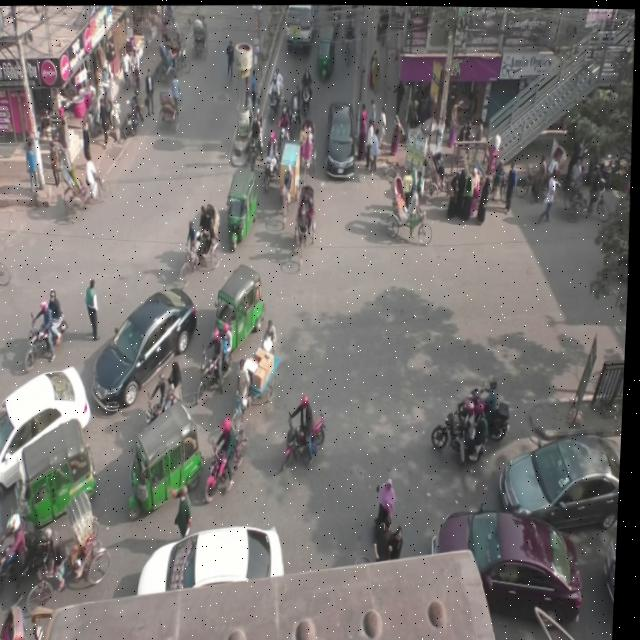cng: (16, 402, 99, 541), (126, 397, 214, 517), (209, 259, 279, 366), (215, 151, 271, 257), (311, 12, 341, 93)
rikshaw: (28, 477, 116, 617), (380, 169, 439, 257), (286, 179, 323, 269), (149, 28, 200, 87), (156, 75, 191, 135), (295, 112, 323, 175), (190, 11, 215, 67), (339, 7, 363, 62)
